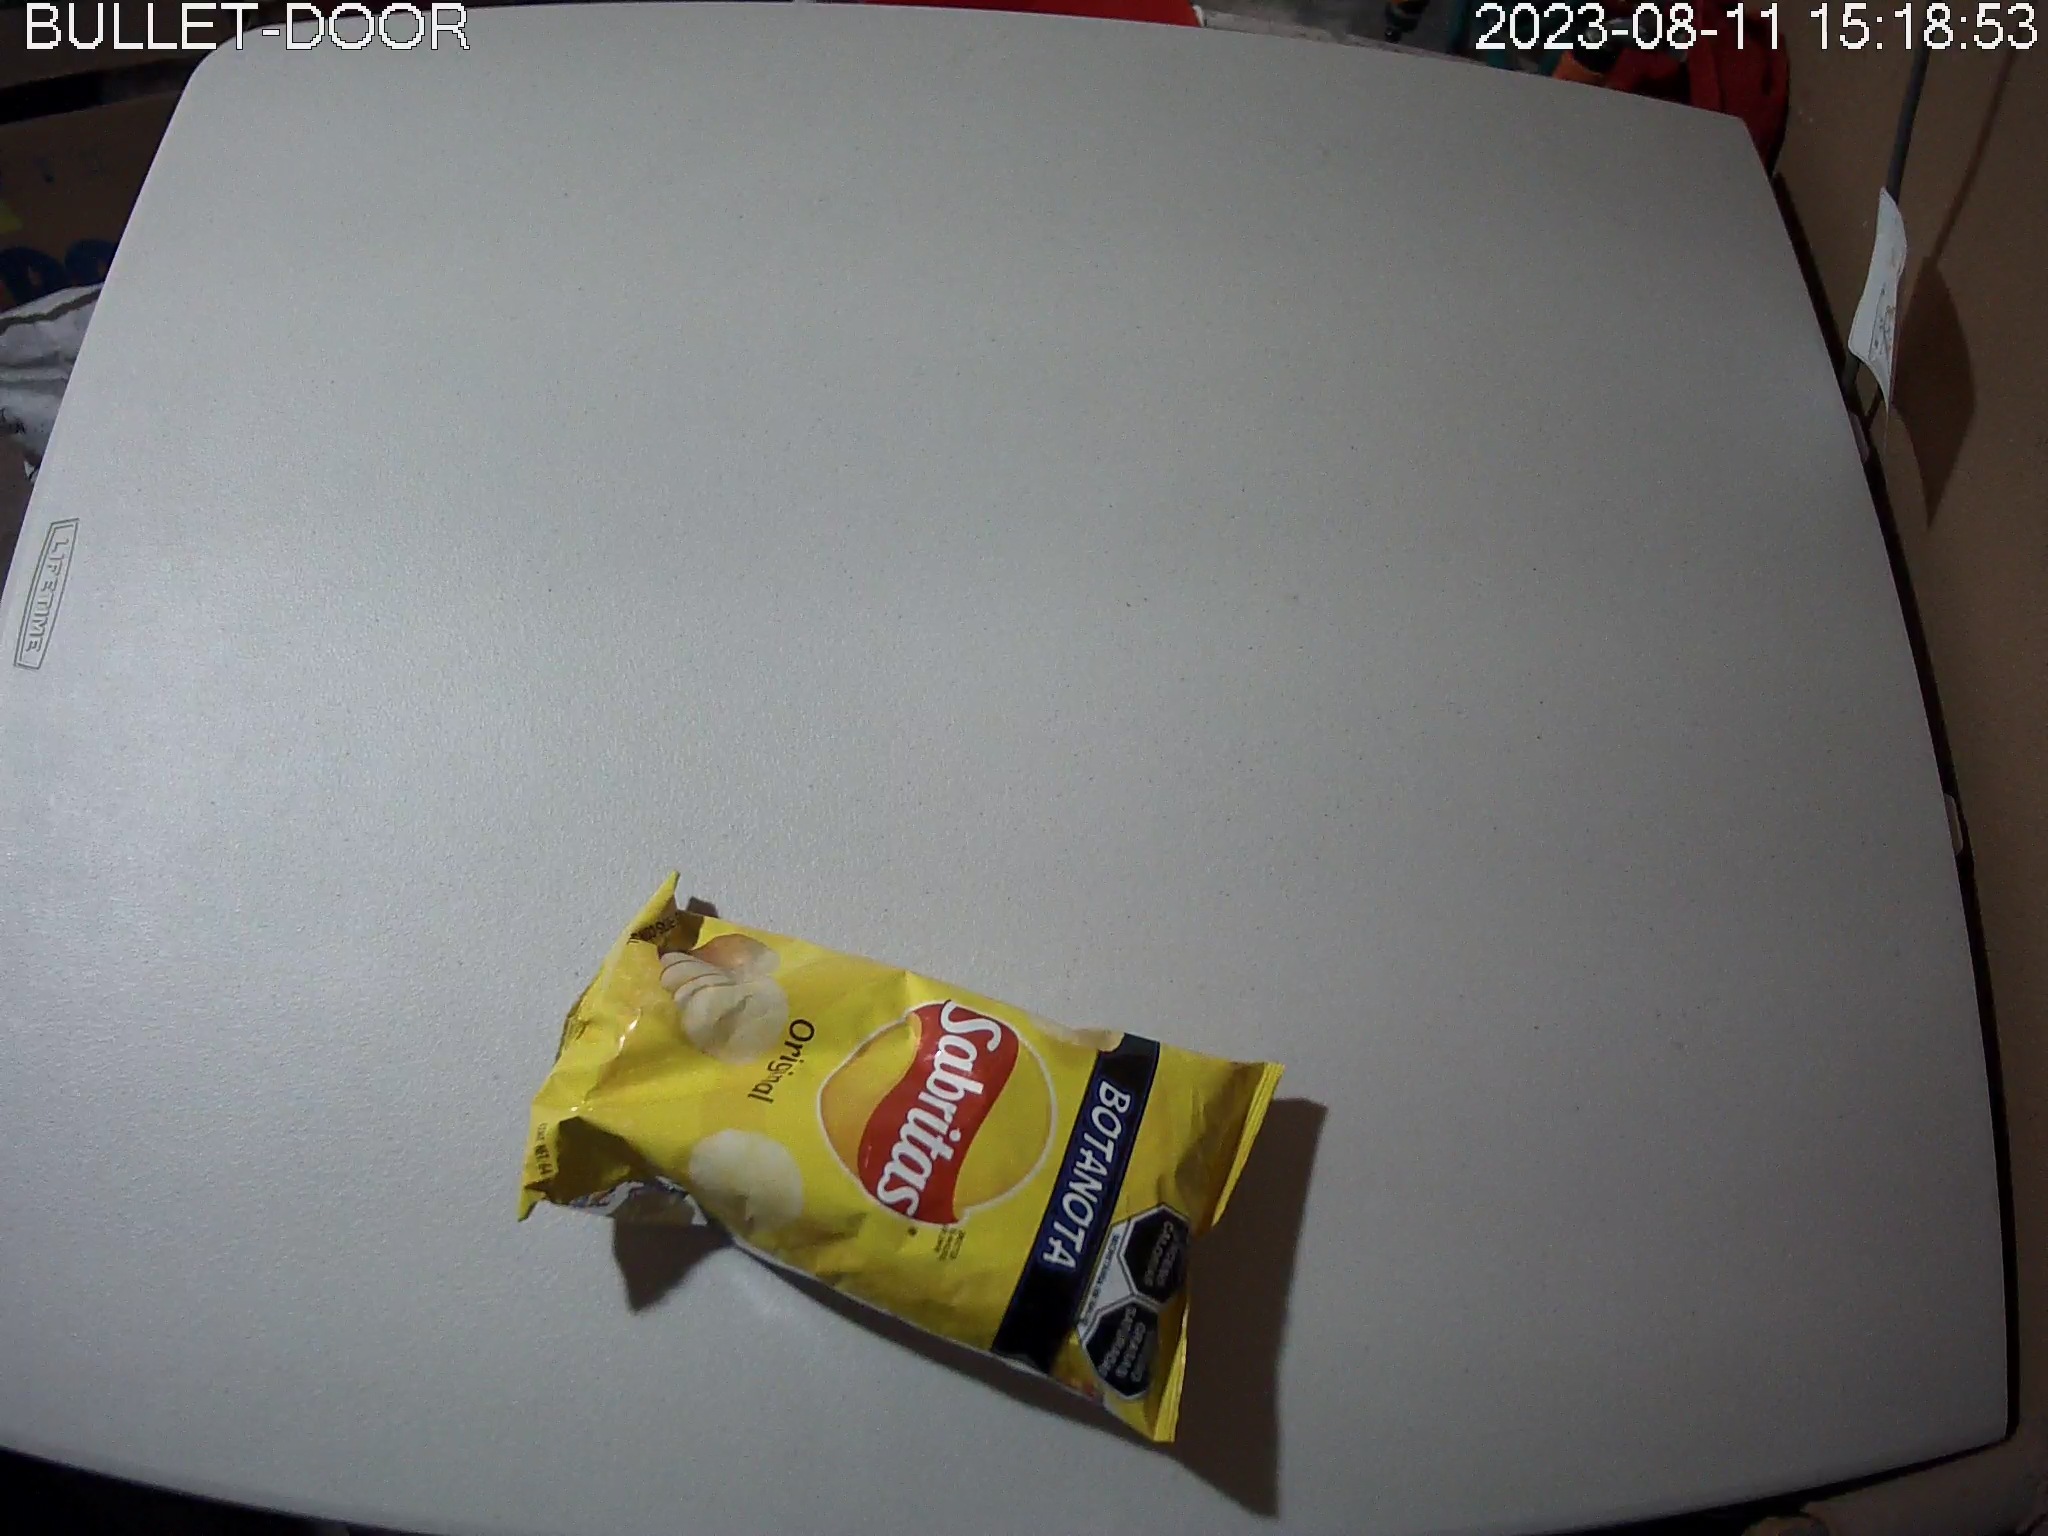Sabritas_64_F: (516, 866, 1292, 1449)
